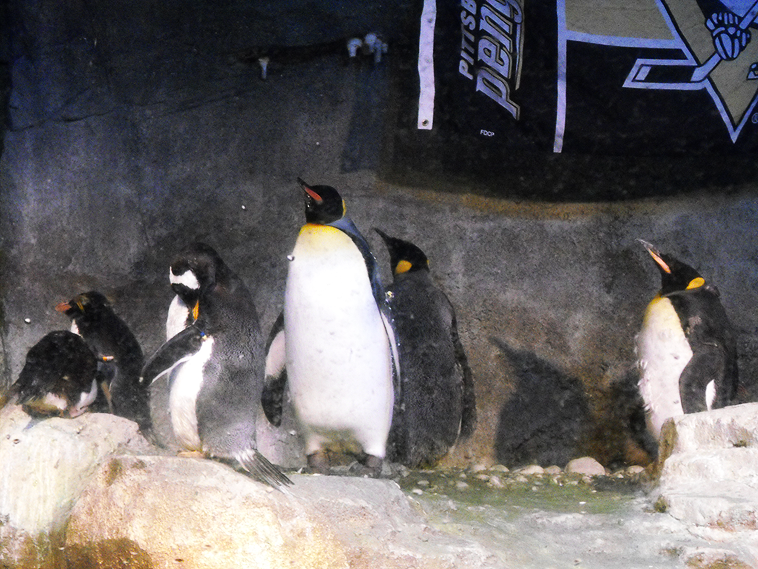penguin: (276, 175, 399, 494)
